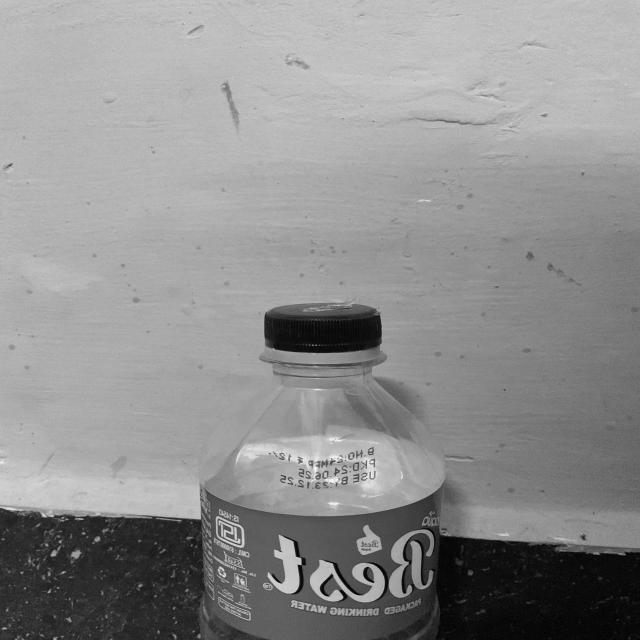Good-cap-Df0S: (260, 303, 384, 364)
